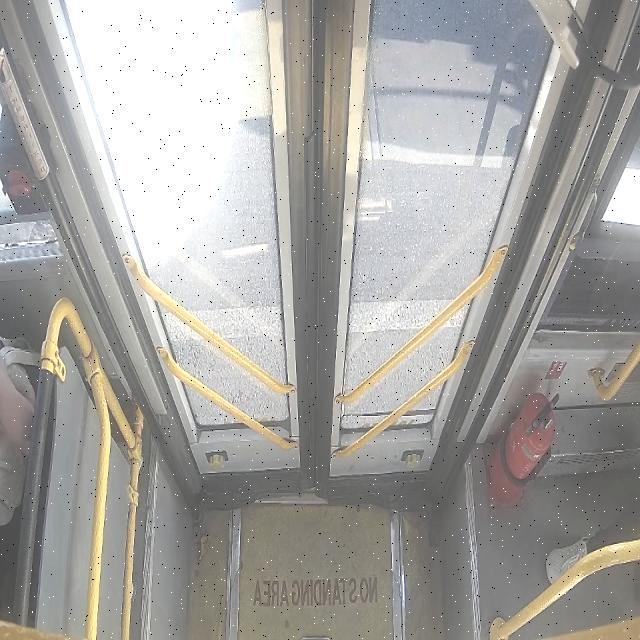close: (62, 1, 564, 487)
